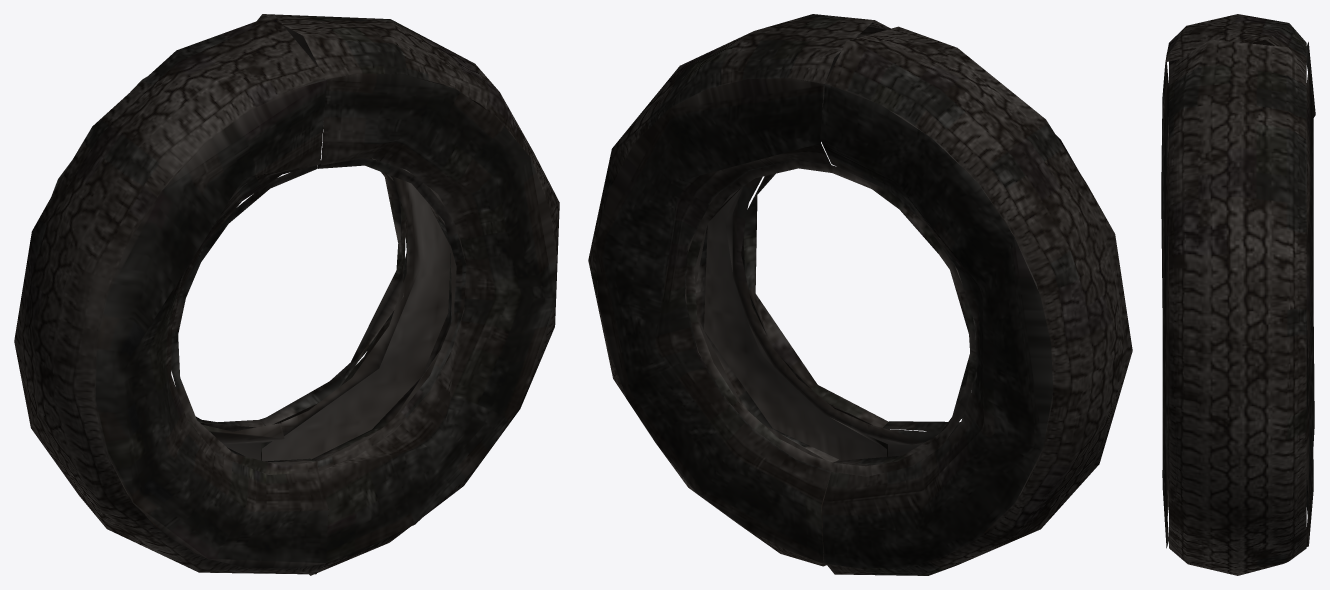
File: tyre.glb
3 renders of one model, left to right at view 1: azimuth 30°, elevation 25°; view 2: azimuth 150°, elevation 25°; view 3: azimuth 270°, elevation 25°, orthographic. The views are drawn at different scales.
Parts seen in each view (by area): view 1: old_tyre; view 2: old_tyre; view 3: old_tyre.
Part boxes in pixels (bbox=[...]): old_tyre: bbox=[14, 14, 559, 575]; old_tyre: bbox=[588, 14, 1132, 575]; old_tyre: bbox=[1161, 14, 1315, 575].
Bounding box in the file's own units: 0.6041 × 0.6092 × 0.167.
1 material, 1 textured.
